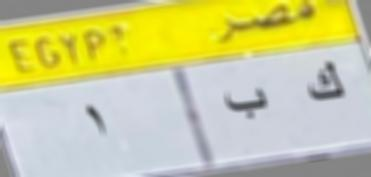1: (84, 94, 111, 140)
baa: (218, 79, 275, 124)
kaaf: (302, 56, 351, 105)
